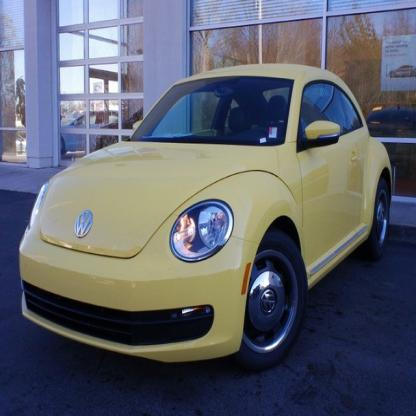Vehicle: (19, 64, 393, 374)
